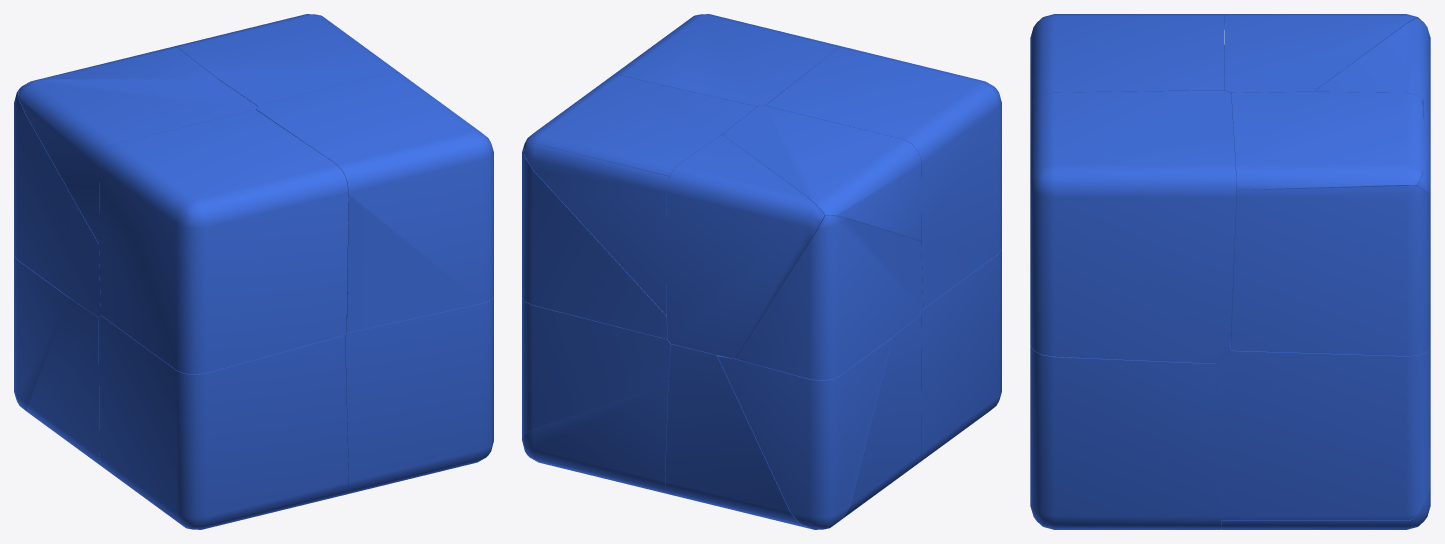
The model's file is kirikkup (1).fbx.
3 renders of one model, left to right at view 1: azimuth 30°, elevation 25°; view 2: azimuth 150°, elevation 25°; view 3: azimuth 270°, elevation 25°, orthographic. The views are drawn at different scales.
Parts seen in each view (by area): view 1: bluecube_cell.005, bluecube_cell.006, bluecube_cell.012, bluecube_cell.008, bluecube_cell.011, bluecube_cell.010, bluecube_cell.009, bluecube_cell.007, bluecube_cell.003, bluecube_cell; view 2: bluecube_cell.005, bluecube_cell, bluecube_cell.007, bluecube_cell.009, bluecube_cell.003, bluecube_cell.011, bluecube_cell.013, bluecube_cell.010, bluecube_cell.002, bluecube_cell.006, bluecube_cell.012, bluecube_cell.004 (+1 smaller); view 3: bluecube_cell.012, bluecube_cell.013, bluecube_cell.002, bluecube_cell.008, bluecube_cell.010, bluecube_cell.005, bluecube_cell.011, bluecube_cell, bluecube_cell.001, bluecube_cell.004.
Boxes of the visible parts, x1,y1,x2,y2 form: bluecube_cell.005: (99,109,348,374); bluecube_cell.006: (98,315,348,529); bluecube_cell.012: (256,72,493,332); bluecube_cell.008: (344,296,493,494); bluecube_cell.011: (18,79,257,243); bluecube_cell.010: (173,14,398,106); bluecube_cell.009: (14,90,100,317); bluecube_cell.007: (26,298,105,469); bluecube_cell.003: (14,255,69,410); bluecube_cell: (19,46,217,89); bluecube_cell.005: (765,47,1001,308); bluecube_cell: (666,135,824,358); bluecube_cell.007: (665,315,921,529); bluecube_cell.009: (735,215,923,380); bluecube_cell.003: (717,338,891,529); bluecube_cell.011: (722,105,921,240); bluecube_cell.013: (522,297,670,440); bluecube_cell.010: (525,75,756,176); bluecube_cell.002: (522,145,667,339); bluecube_cell.006: (915,249,1001,465); bluecube_cell.012: (612,14,842,106); bluecube_cell.004: (524,143,669,315); bluecube_cell.012: (1030,90,1236,363); bluecube_cell.013: (1216,342,1430,520); bluecube_cell.002: (1231,186,1430,356); bluecube_cell.008: (1030,345,1221,529); bluecube_cell.010: (1231,91,1422,190); bluecube_cell.005: (1030,14,1224,113); bluecube_cell.011: (1224,14,1419,98); bluecube_cell: (1314,18,1430,113); bluecube_cell.001: (1221,519,1411,529); bluecube_cell.004: (1414,100,1430,197).
Bounding box in the file's own units: 200 × 200 × 200.
